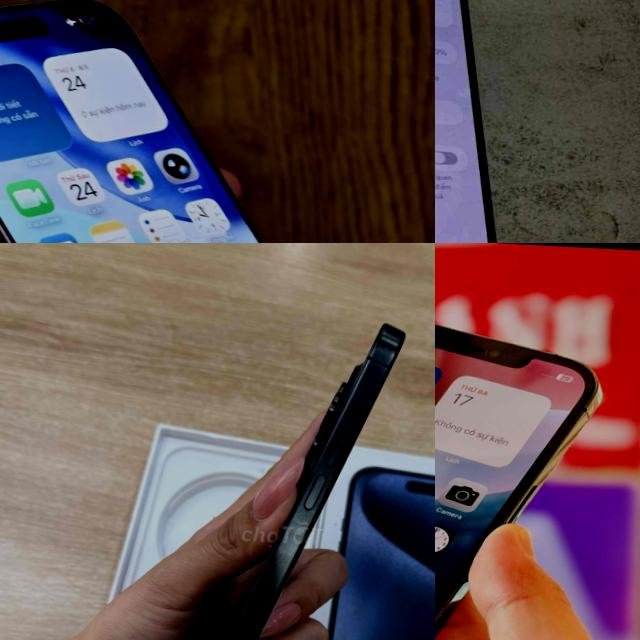scratch: (272, 516, 314, 564)
